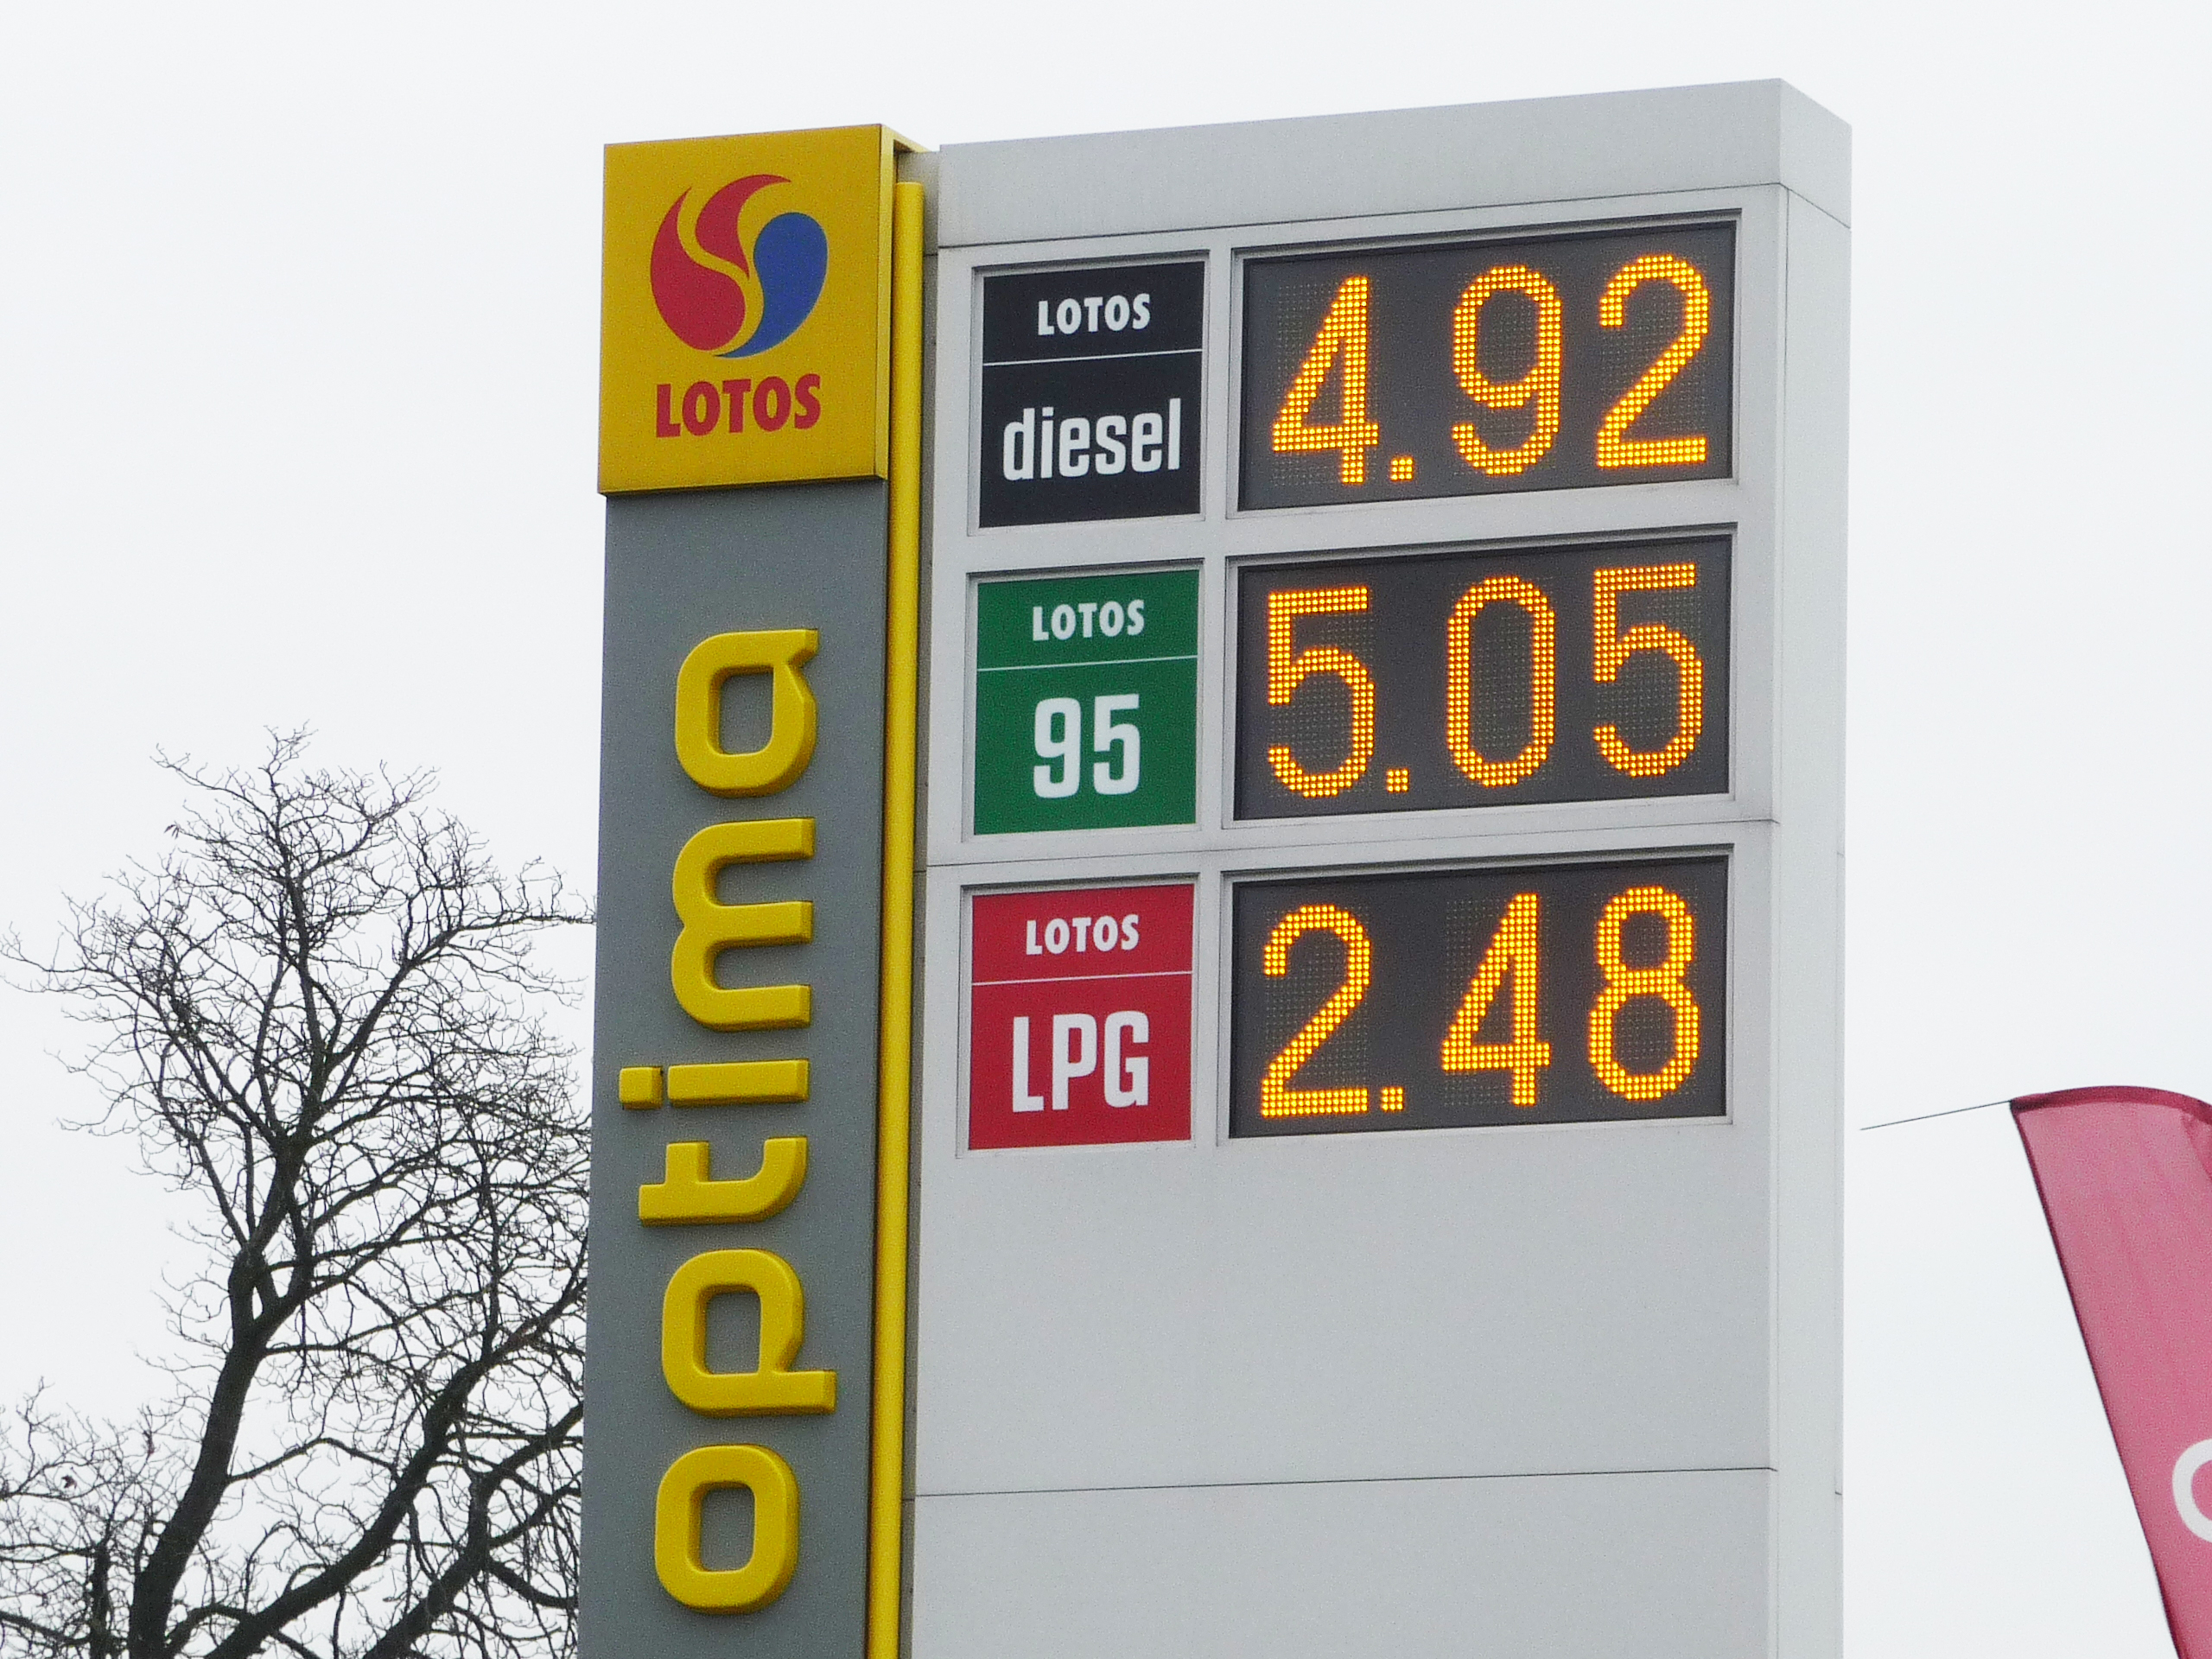LPG: (974, 979, 1184, 1143)
PB95: (977, 659, 1184, 823)
